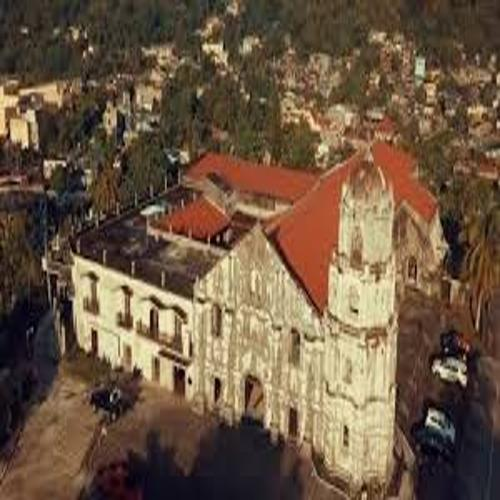Daraga Church: (199, 164, 411, 494)
